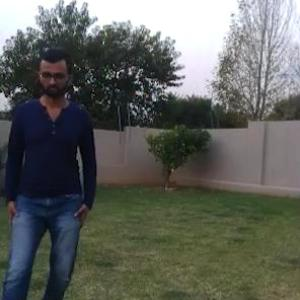follow: (0, 11, 105, 299)
